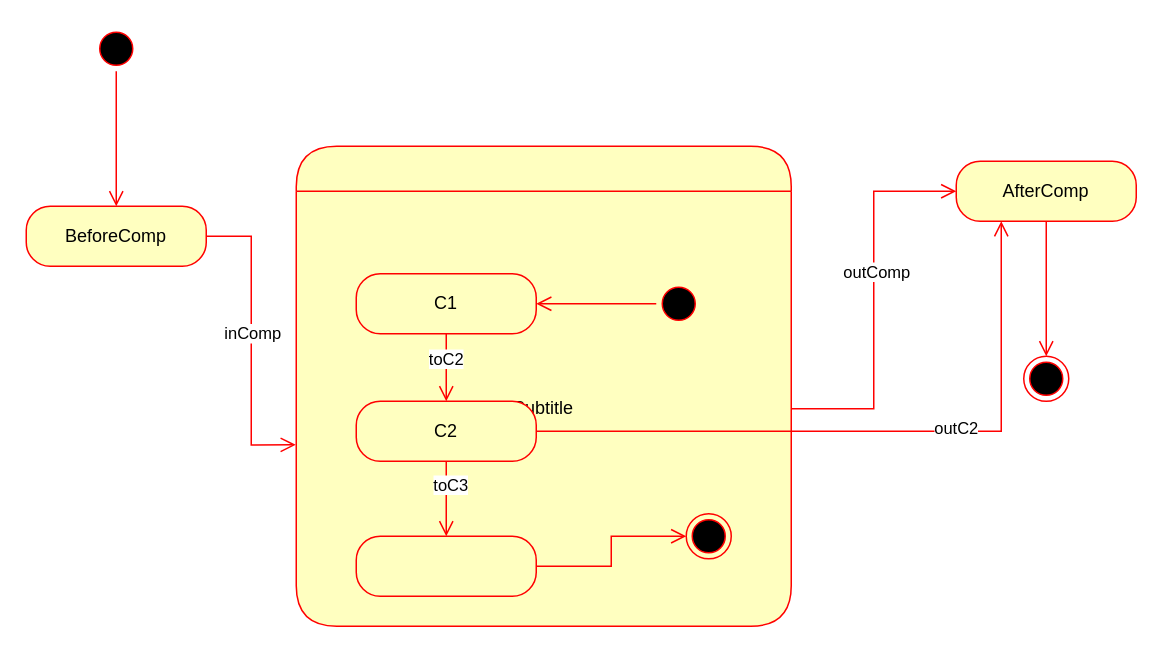
Some shapes in this 1163 by 653 pixel diagram are drawn without their labels. Each missing label, with the box of its shape:
C3: (355, 535, 536, 596)
CompositeState: (295, 145, 791, 626)
